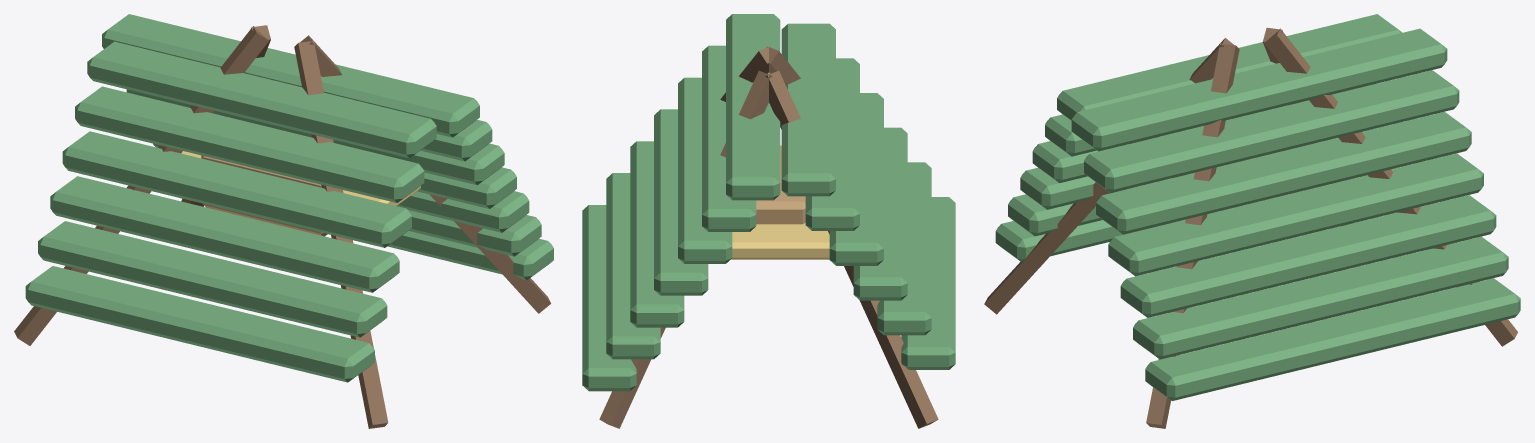
The model's file is town_hunters_hide.glb.
The picture shows the model from 3 angles, left to right: view 1: azimuth 30°, elevation 25°; view 2: azimuth 150°, elevation 25°; view 3: azimuth 270°, elevation 25°; orthographic projection. The views are drawn at different scales.
Parts seen in each view (by area): view 1: world; view 2: world; view 3: world.
Part boxes in pixels (<box>): world: <box>14,14,553,428</box>; world: <box>582,14,955,428</box>; world: <box>984,14,1520,428</box>.
Bounding box in the file's own units: 1.94 × 1.2 × 2.
